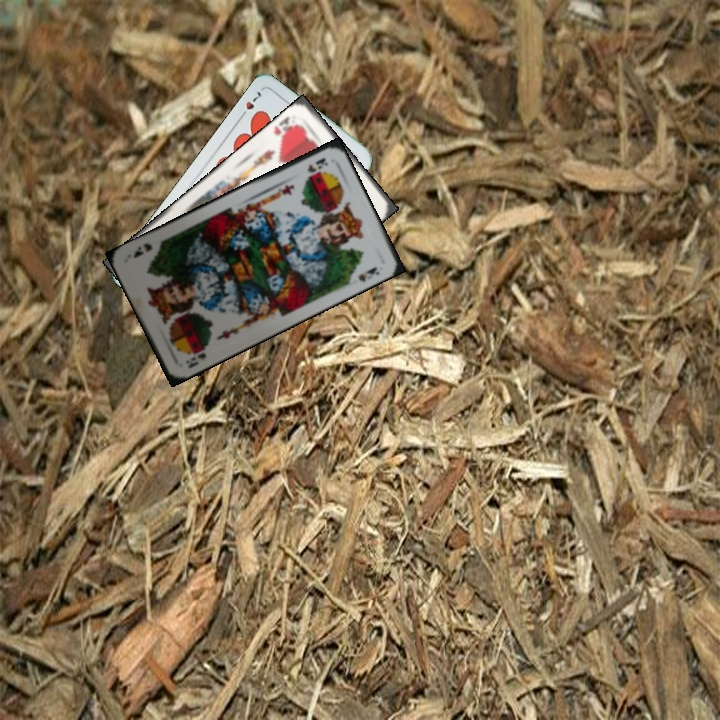H7: (235, 87, 264, 121)
HK: (269, 112, 301, 143)
SK: (181, 340, 213, 371), (303, 154, 331, 175)
